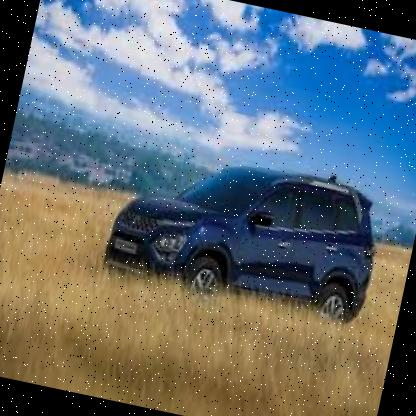car: (90, 121, 397, 345)
